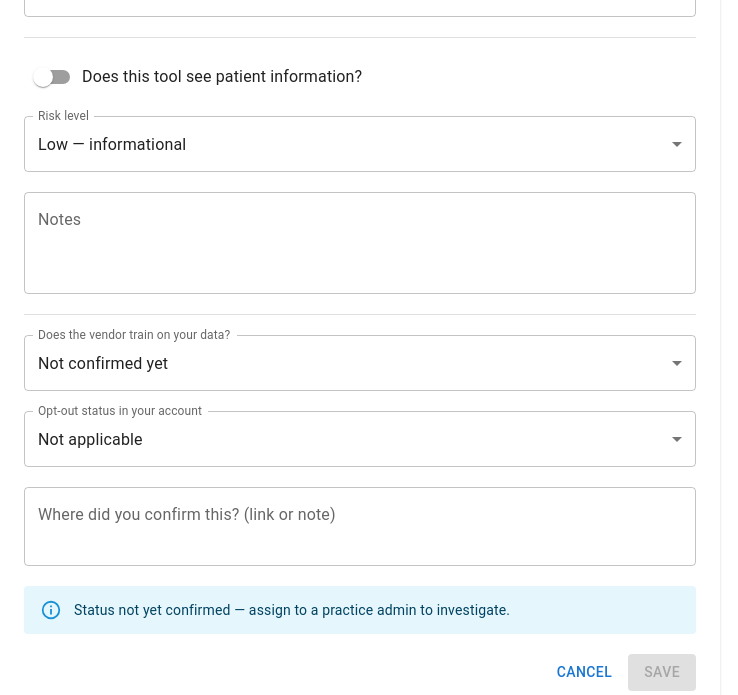
Test: ToolEditor — training-status admin gate (PRD §6.8.2) › shows the warning_no_baa banner when status is trains_on_customer_data + no BAA
(page scrolled)
Press the mouse on the dropdown labelled "Not confirmed yet" at (103, 363), box [38,354,168,373]
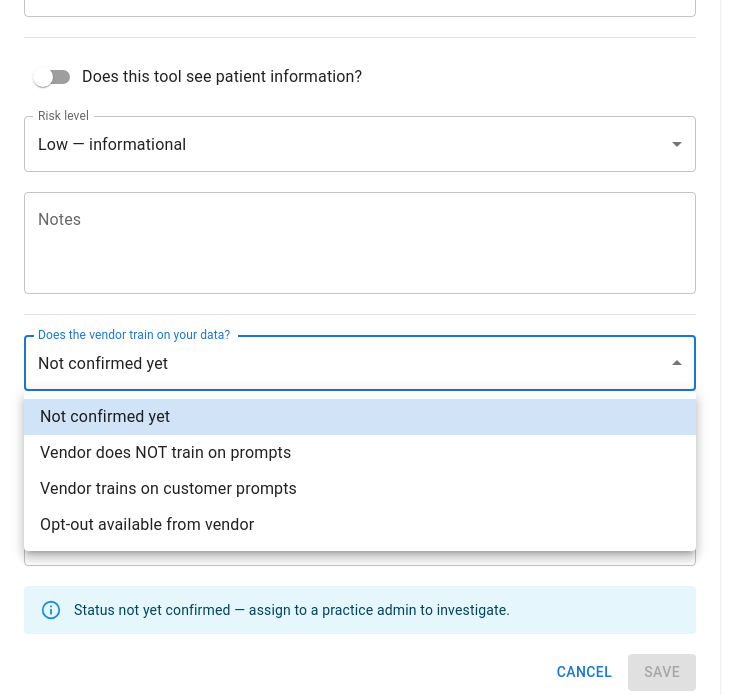
Click the option "Vendor trains on customer prompts".
click(168, 488)  # box [40,479,297,498]
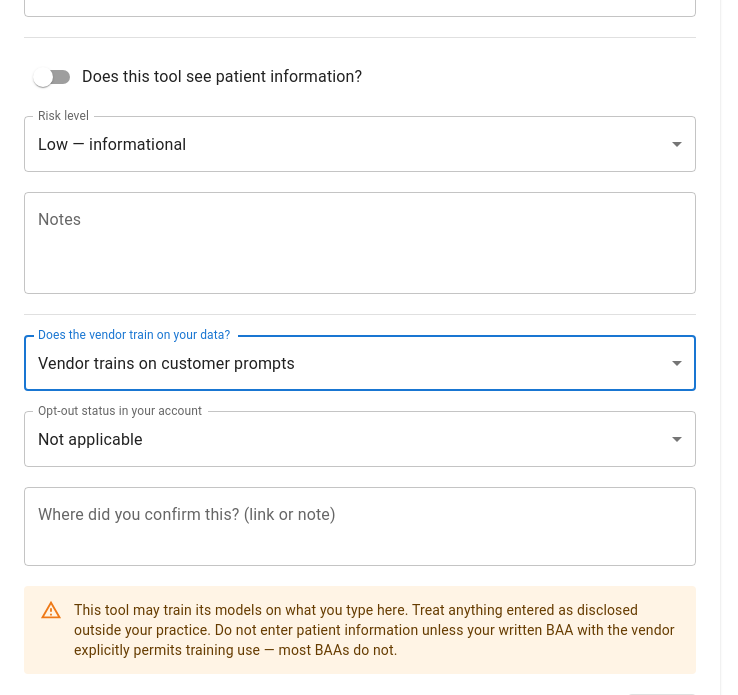
Now the text "This tool may train its models on what you type here. Treat anything entered as disclosed outside your practice. Do not " is shown, box [74,602,675,658]
